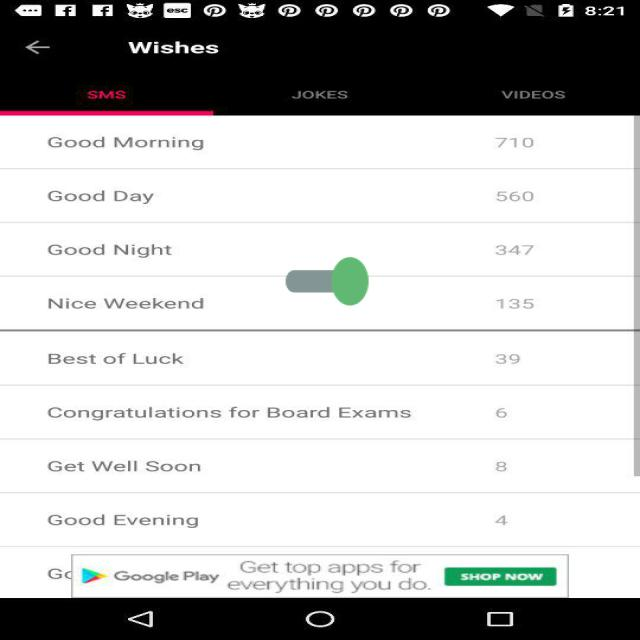social proof: (286, 228, 368, 336)
